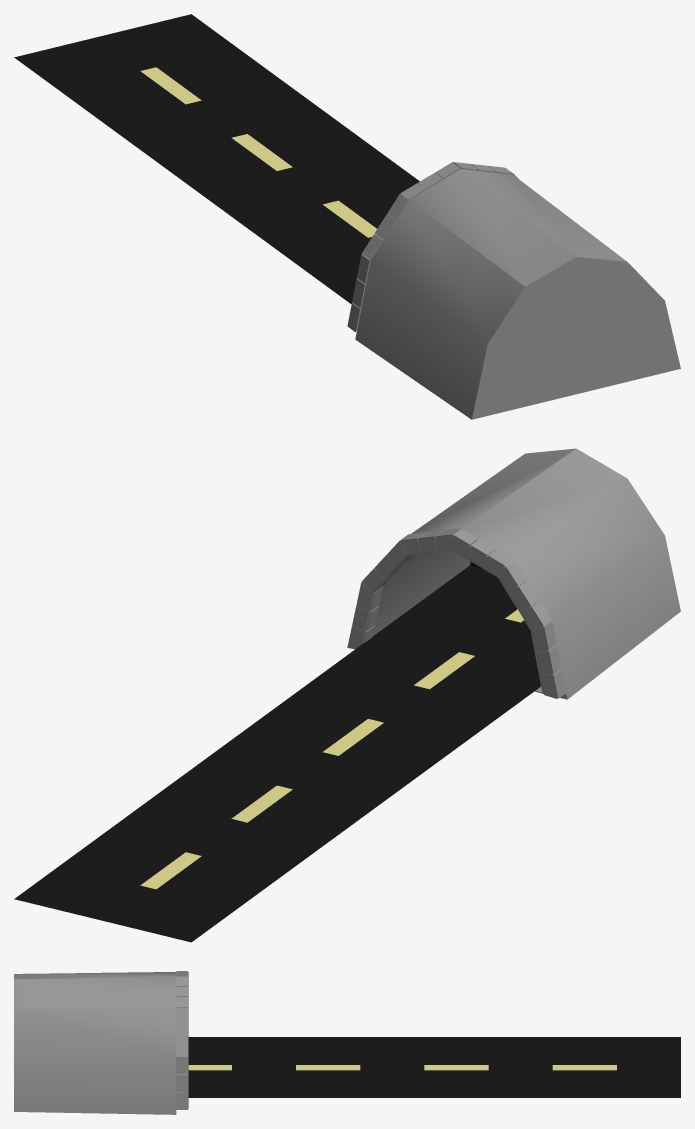
The model's file is street.fbx.
The picture shows the model from 3 angles, top to bottom: view 1: azimuth 30°, elevation 25°; view 2: azimuth 150°, elevation 25°; view 3: azimuth 270°, elevation 25°; orthographic projection. The views are drawn at different scales.
Parts seen in each view (by area): view 1: pCylinder1, road; view 2: road, pCylinder1; view 3: road, pCylinder1.
Boxes of the visible parts, x1=… form: pCylinder1: x1=347, y1=162, x2=680, y2=419; road: x1=14, y1=14, x2=419, y2=304; road: x1=14, y1=565, x2=541, y2=942; pCylinder1: x1=347, y1=448, x2=680, y2=699; road: x1=188, y1=1037, x2=680, y2=1097; pCylinder1: x1=14, y1=971, x2=188, y2=1114.
Bounding box in the file's own units: 6.38 × 4.17 × 24.62.
